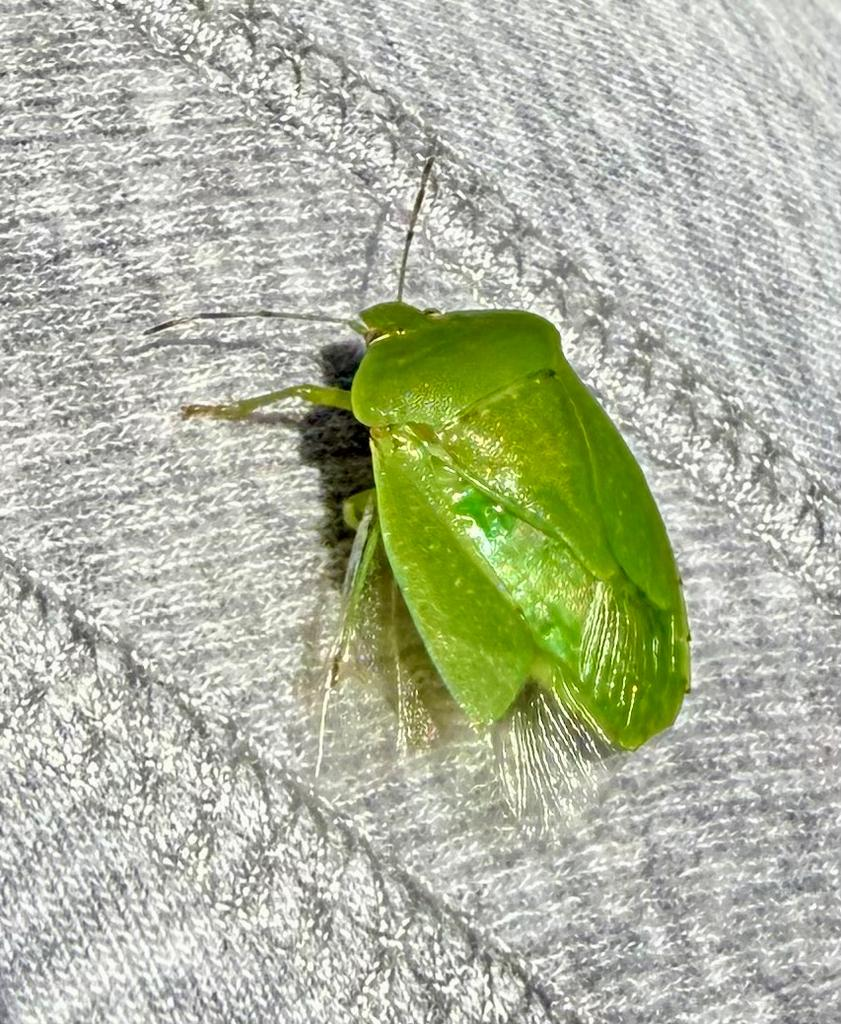stink_bugs: (94, 82, 841, 889)
